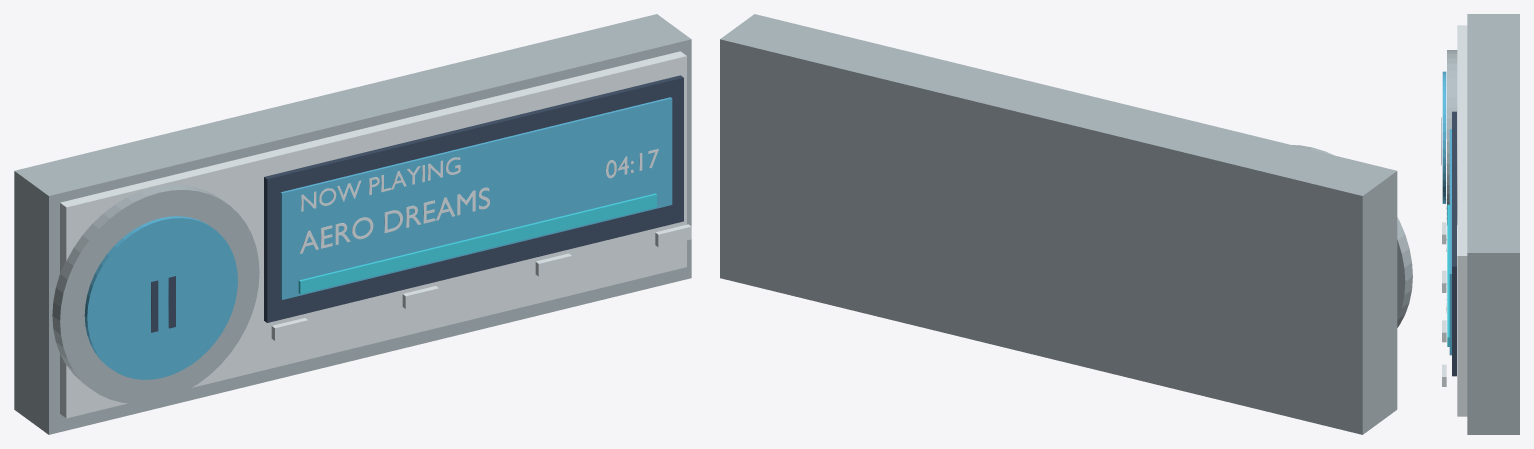
The model's file is aero_media_player.glb.
The picture shows the model from 3 angles, left to right: view 1: azimuth 30°, elevation 25°; view 2: azimuth 150°, elevation 25°; view 3: azimuth 270°, elevation 25°; orthographic projection. The views are drawn at different scales.
Parts seen in each view (by area): view 1: Chrome capsule, Pearl face, Blue LCD gradient base, Display dark recess, Transport blue lens, Transport silver ring, Display light strip, Track title, Now playing, Pause icon; view 2: Chrome capsule, Transport silver ring; view 3: Chrome capsule, Pearl face, Display dark recess, Transport silver ring, Blue LCD gradient base, Transport blue lens, Display light strip, Seek button.001, Seek button.002, Seek button.003, Seek button.
Boxes of the visible parts, x1,y1,x2,y2 form: Chrome capsule: [14, 14, 691, 434]; Pearl face: [60, 51, 686, 418]; Blue LCD gradient base: [280, 97, 672, 299]; Display dark recess: [264, 75, 683, 322]; Transport blue lens: [84, 216, 237, 379]; Transport silver ring: [52, 184, 259, 403]; Display light strip: [298, 193, 656, 294]; Track title: [299, 187, 489, 253]; Now playing: [301, 157, 460, 211]; Pause icon: [151, 276, 175, 332]; Chrome capsule: [720, 14, 1397, 434]; Transport silver ring: [1292, 145, 1412, 327]; Chrome capsule: [1467, 14, 1519, 434]; Pearl face: [1457, 25, 1467, 416]; Display dark recess: [1452, 111, 1456, 376]; Transport silver ring: [1447, 50, 1457, 224]; Blue LCD gradient base: [1449, 129, 1451, 355]; Transport blue lens: [1442, 71, 1446, 203]; Display light strip: [1447, 204, 1449, 346]; Seek button.001: [1442, 270, 1446, 292]; Seek button.002: [1442, 320, 1446, 342]; Seek button.003: [1442, 364, 1446, 386]; Seek button: [1442, 222, 1446, 244].
Bounding box in the file's own units: 2.91 × 1.03 × 0.405.
